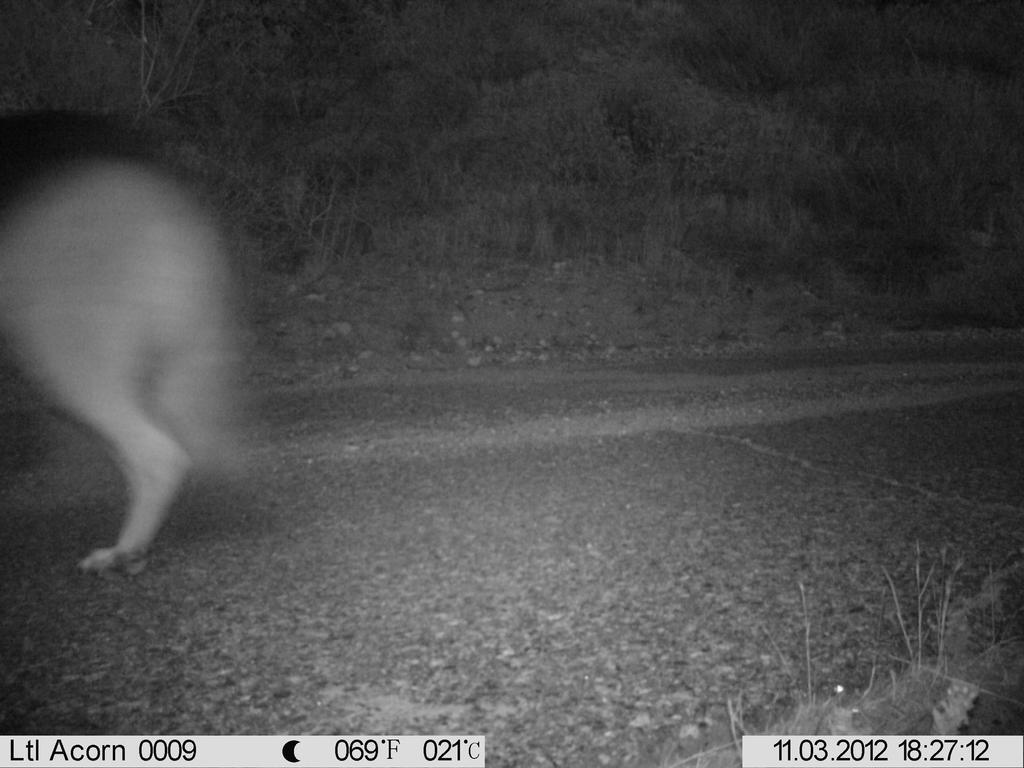coyote: (4, 127, 255, 578)
